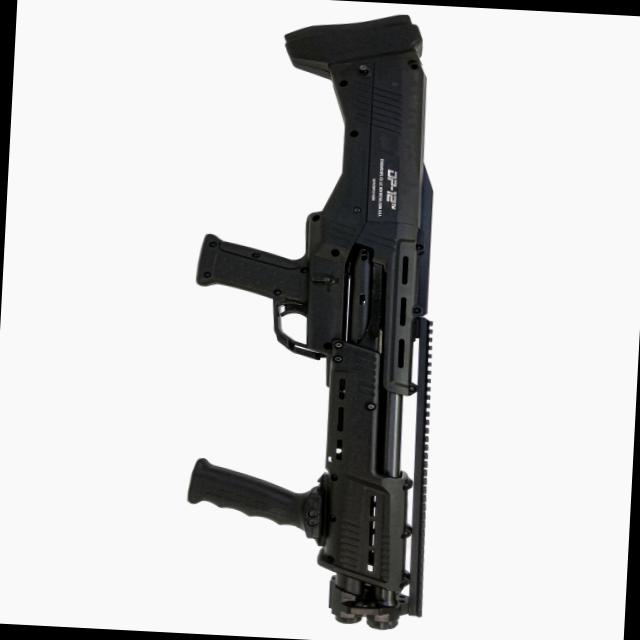long weapon: (129, 0, 489, 639)
